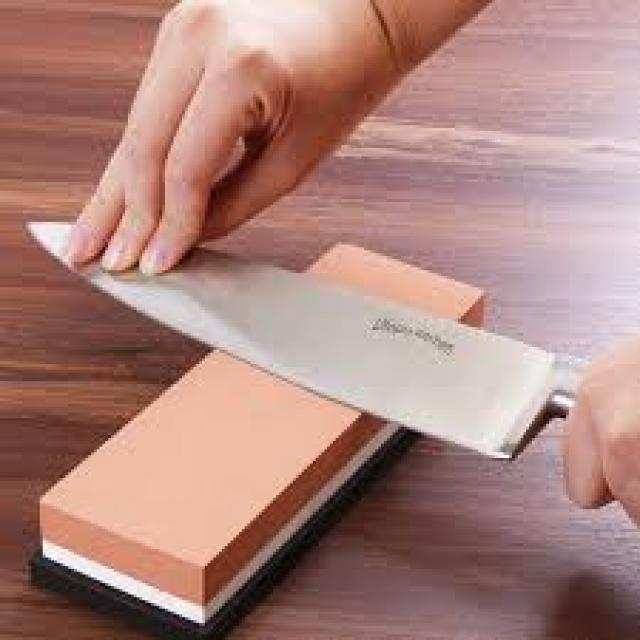knife: (32, 135, 640, 524)
